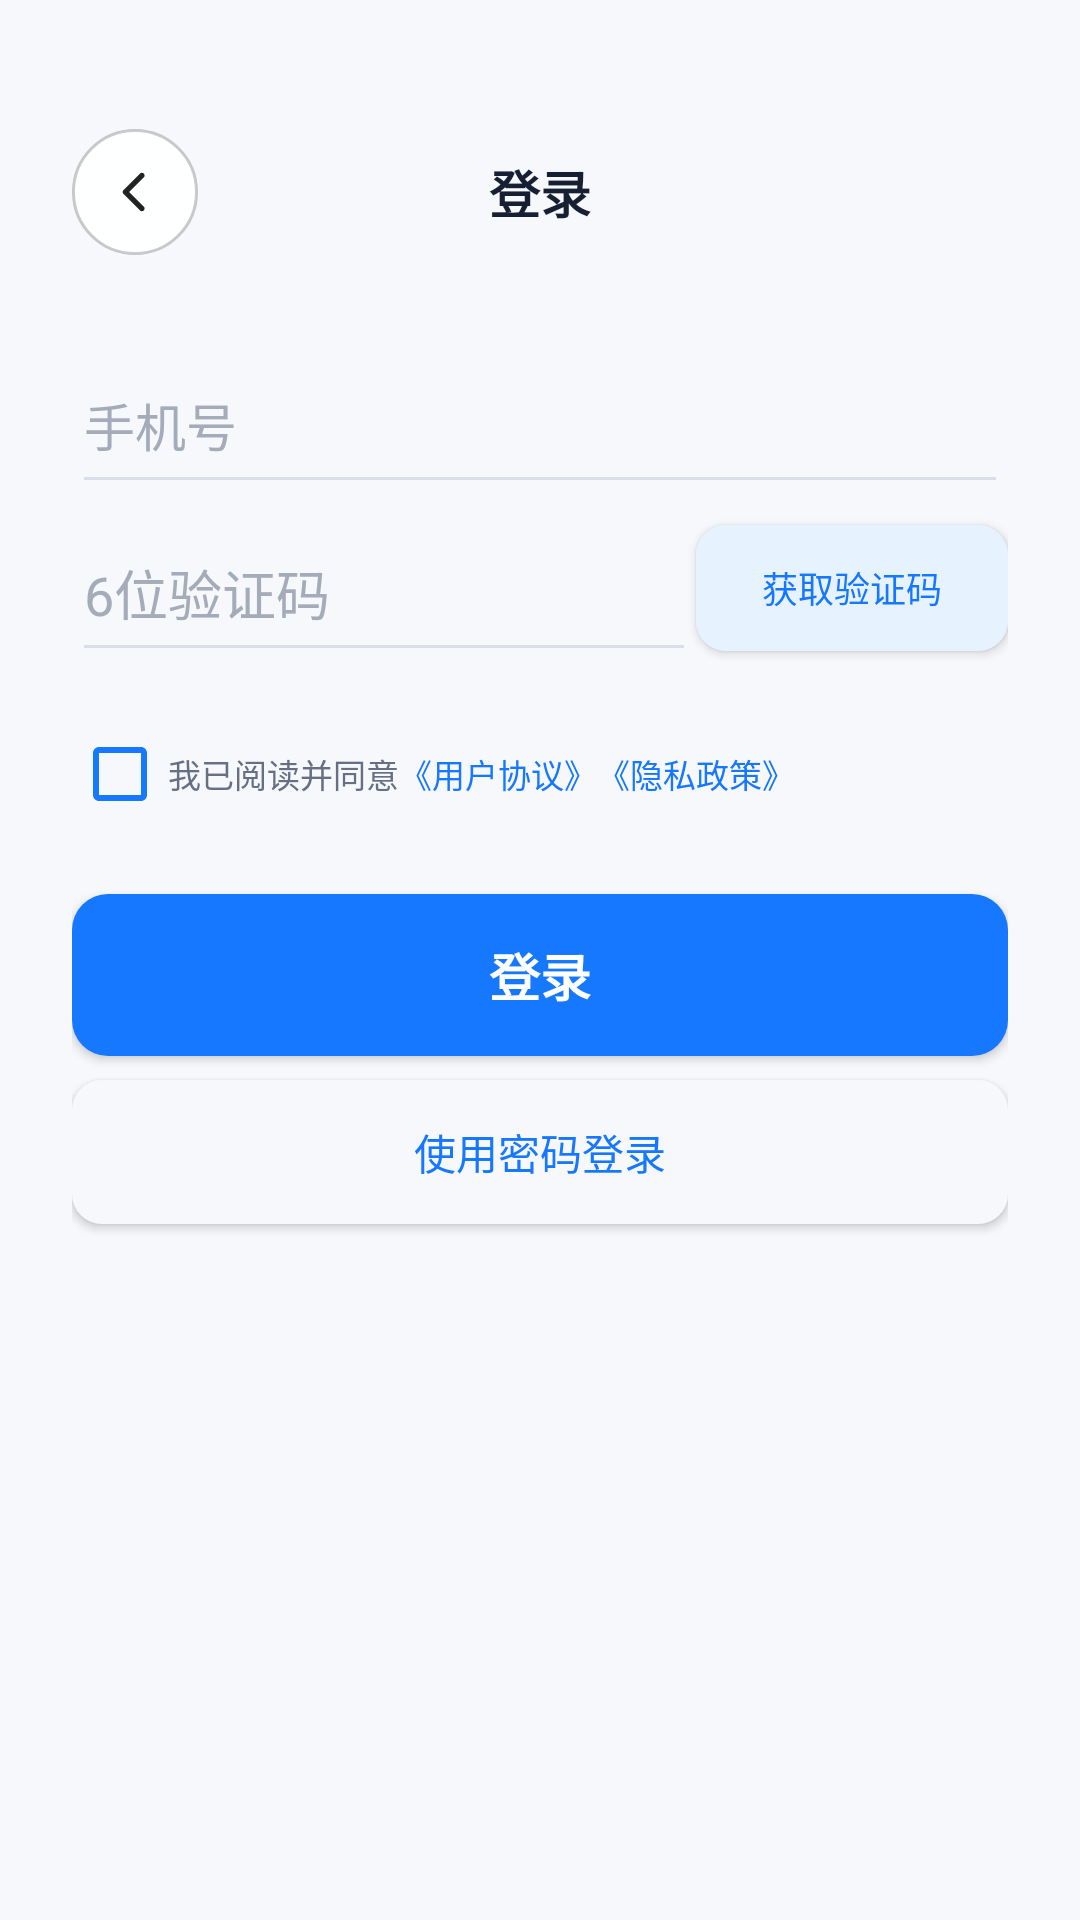

Where icons sit on this 1080×1920 app screen, as bbox(x1, y1, x2, y2):
back chevron: bbox(72, 129, 198, 255)
